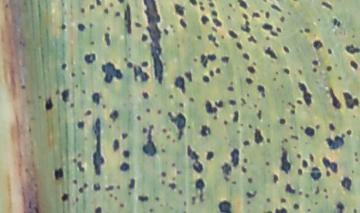tarspot: (143, 1, 163, 84), (92, 117, 104, 176), (167, 111, 185, 140), (102, 62, 123, 82), (144, 124, 156, 157), (298, 82, 312, 107), (123, 3, 133, 34), (343, 91, 359, 110), (329, 85, 341, 109), (281, 149, 292, 175), (326, 134, 345, 149), (322, 156, 338, 173), (134, 65, 149, 82), (186, 144, 200, 161), (207, 32, 220, 49), (197, 177, 205, 202), (264, 46, 278, 60), (204, 100, 217, 115), (340, 176, 352, 192), (217, 201, 232, 213), (175, 76, 185, 93), (311, 166, 322, 181), (254, 128, 264, 144), (231, 148, 239, 168), (191, 160, 203, 173), (240, 20, 252, 33), (84, 53, 96, 65), (221, 163, 232, 176), (256, 84, 266, 98), (346, 44, 360, 54), (54, 166, 64, 180), (61, 88, 70, 103), (200, 124, 211, 136), (285, 183, 297, 194), (175, 3, 185, 16), (320, 1, 333, 11), (45, 96, 53, 112), (103, 32, 112, 45), (91, 92, 100, 105), (77, 159, 85, 173), (109, 110, 119, 121), (212, 17, 223, 27), (313, 39, 323, 50), (304, 126, 315, 136), (60, 192, 71, 202), (184, 71, 193, 83), (205, 149, 214, 161), (201, 13, 210, 25), (271, 4, 283, 13), (231, 111, 240, 123), (245, 189, 257, 198), (112, 138, 120, 151), (137, 194, 150, 202), (281, 44, 291, 54), (76, 22, 85, 33), (201, 54, 208, 68), (236, 1, 248, 9), (337, 201, 345, 213), (119, 162, 129, 171), (214, 99, 224, 108), (228, 30, 238, 39), (247, 35, 257, 44), (247, 65, 256, 75), (287, 101, 297, 110), (262, 22, 273, 30), (179, 19, 188, 28), (76, 120, 85, 129), (208, 53, 217, 62), (221, 54, 229, 64), (350, 60, 358, 70), (128, 179, 136, 189), (92, 183, 102, 191), (123, 149, 131, 158), (210, 9, 219, 17), (235, 41, 243, 50), (245, 77, 254, 85), (311, 59, 320, 67), (324, 169, 332, 178), (167, 182, 176, 190), (264, 10, 271, 20), (257, 110, 263, 121), (191, 194, 197, 205), (141, 92, 149, 100), (202, 74, 210, 82), (208, 1, 216, 9), (227, 85, 235, 93), (283, 67, 291, 75), (278, 117, 286, 125), (328, 123, 336, 131), (292, 202, 300, 210), (228, 99, 237, 106), (314, 186, 321, 195), (240, 165, 247, 174), (78, 186, 85, 195), (26, 199, 33, 208), (272, 174, 278, 184), (275, 208, 287, 213), (121, 132, 128, 140), (215, 66, 222, 74), (252, 12, 260, 19), (243, 53, 250, 61), (239, 98, 247, 105), (296, 99, 304, 106), (106, 184, 114, 191), (61, 61, 67, 70), (140, 34, 149, 40), (209, 69, 215, 78), (279, 14, 285, 23), (347, 128, 353, 137), (242, 140, 251, 146), (308, 153, 314, 162), (302, 159, 308, 168), (135, 21, 142, 28), (163, 29, 170, 36), (222, 119, 229, 126), (242, 12, 249, 19), (17, 39, 24, 46), (33, 206, 40, 213), (70, 70, 76, 78), (80, 87, 86, 95), (141, 61, 149, 67), (141, 126, 147, 134), (212, 26, 218, 34), (276, 26, 282, 34), (271, 31, 279, 37), (303, 28, 311, 34), (297, 168, 303, 176), (94, 207, 102, 213), (104, 6, 109, 15), (189, 1, 198, 6), (83, 110, 92, 115), (61, 23, 67, 30), (89, 3, 95, 10), (115, 10, 121, 17), (127, 63, 134, 69), (135, 115, 142, 121), (145, 107, 151, 114), (195, 34, 202, 40), (326, 65, 332, 72), (290, 109, 296, 116), (280, 198, 287, 204), (247, 177, 253, 184), (175, 169, 182, 175), (161, 171, 168, 177), (127, 45, 133, 52), (351, 112, 357, 119), (94, 1, 102, 6), (333, 18, 338, 26), (291, 135, 299, 140), (55, 89, 61, 95), (168, 94, 174, 100), (188, 97, 194, 103), (274, 69, 280, 75), (327, 49, 333, 55), (337, 75, 343, 81), (323, 188, 329, 194), (313, 200, 319, 206), (246, 199, 252, 205), (126, 191, 132, 197), (83, 182, 89, 188), (74, 197, 80, 203), (350, 33, 356, 39), (3, 3, 9, 9), (36, 94, 43, 99), (89, 40, 96, 45), (169, 22, 174, 29), (178, 102, 185, 107), (176, 42, 181, 49), (228, 2, 233, 9), (248, 122, 253, 129), (265, 160, 270, 167), (266, 196, 271, 203), (223, 176, 230, 181), (119, 203, 126, 208), (80, 6, 84, 14), (117, 1, 125, 5), (316, 123, 320, 131), (21, 85, 27, 90), (70, 102, 75, 108), (110, 2, 115, 8), (106, 26, 112, 31), (81, 70, 86, 76), (123, 55, 128, 61), (200, 6, 205, 12), (166, 135, 171, 141), (161, 148, 166, 154), (193, 57, 198, 63), (213, 115, 218, 121), (220, 34, 225, 40), (265, 35, 270, 41), (252, 60, 257, 66), (253, 103, 258, 109), (286, 10, 292, 15), (312, 68, 318, 73), (236, 129, 241, 135), (355, 157, 360, 163), (306, 207, 312, 212), (161, 180, 166, 186), (171, 176, 177, 181), (178, 189, 183, 195), (155, 196, 160, 202), (73, 179, 78, 185), (279, 83, 284, 89), (266, 123, 272, 128), (350, 168, 355, 174), (265, 210, 274, 213), (75, 83, 80, 88), (102, 104, 107, 109), (77, 152, 82, 157), (73, 158, 78, 163), (299, 126, 304, 131), (283, 138, 288, 143), (297, 154, 302, 159), (353, 208, 358, 213), (305, 194, 310, 199), (243, 158, 248, 163), (229, 80, 234, 85), (187, 124, 191, 130), (245, 93, 251, 97), (273, 76, 277, 82), (290, 125, 294, 131), (266, 139, 272, 143), (325, 194, 329, 200), (338, 20, 341, 27), (299, 69, 302, 76), (108, 124, 112, 129), (163, 129, 168, 133), (228, 16, 232, 21), (149, 208, 153, 213), (114, 196, 118, 201), (117, 185, 121, 190), (88, 24, 94, 27), (158, 110, 162, 114), (317, 18, 321, 22), (240, 123, 244, 127), (354, 152, 358, 156), (299, 191, 303, 195), (263, 1, 268, 4), (300, 29, 303, 34), (184, 201, 187, 206), (200, 1, 203, 5), (172, 163, 175, 167), (232, 181, 236, 184), (110, 194, 113, 198), (293, 1, 299, 2)
